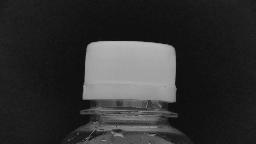Loose Cap: (74, 78, 184, 124)
